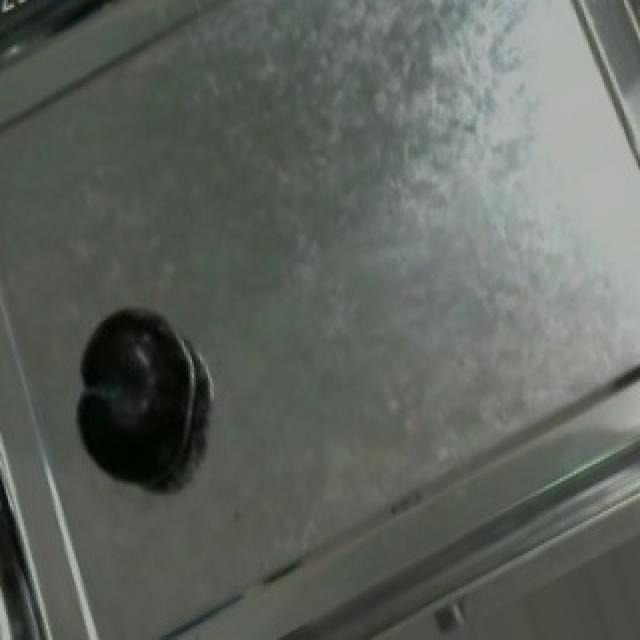Fruit: (58, 300, 214, 504)
